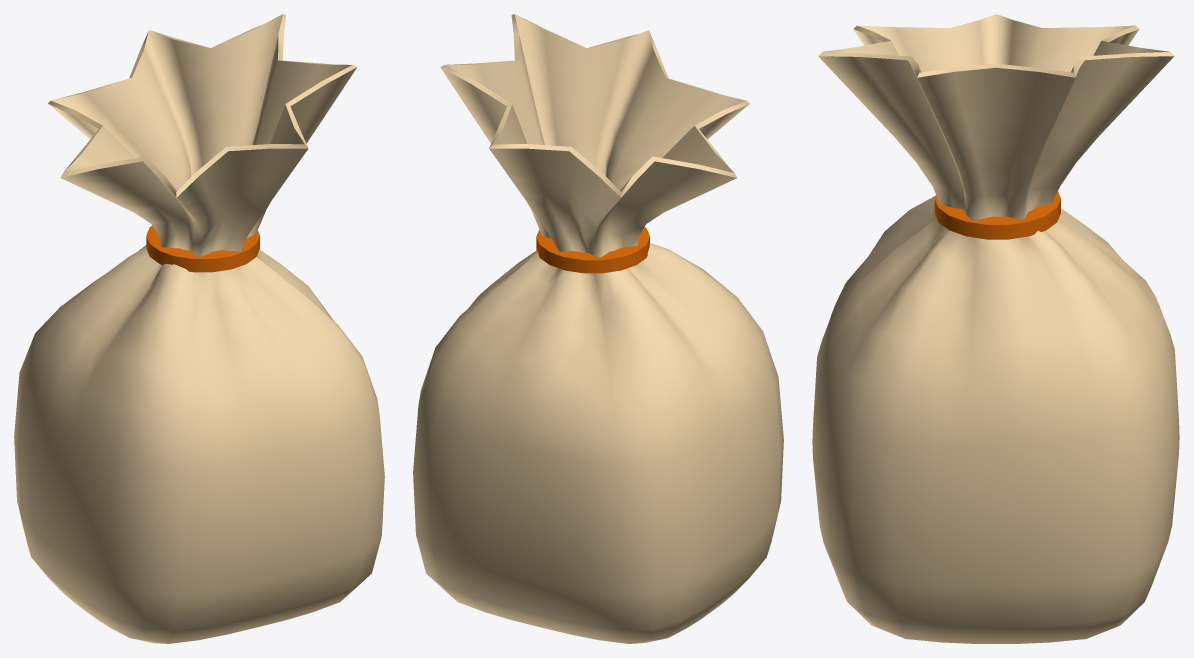
File: bag 2.fbx
The picture shows the model from 3 angles, left to right: view 1: azimuth 30°, elevation 25°; view 2: azimuth 150°, elevation 25°; view 3: azimuth 270°, elevation 25°; orthographic projection. The views are drawn at different scales.
Parts seen in each view (by area): view 1: Bag; view 2: Bag; view 3: Bag.
Boxes of the visible parts, <box> form: Bag: <box>14,14,384,643</box>; Bag: <box>413,14,783,643</box>; Bag: <box>812,14,1179,643</box>.
Size of the model in its own units: 11.33 by 20.1 by 11.2.
Materials: 1 (1 with a texture image).
